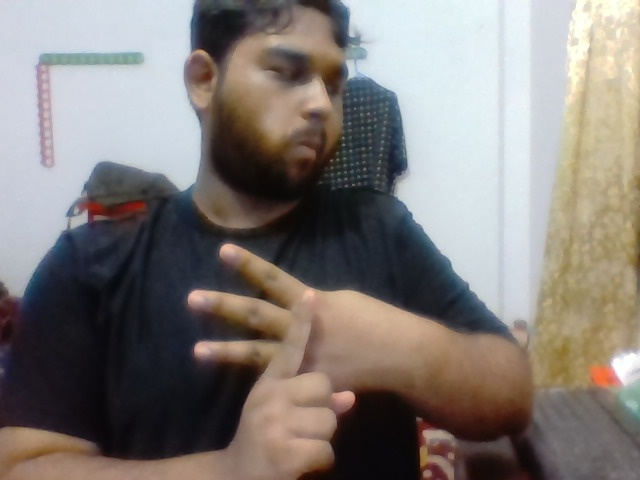E: (174, 234, 394, 468)
